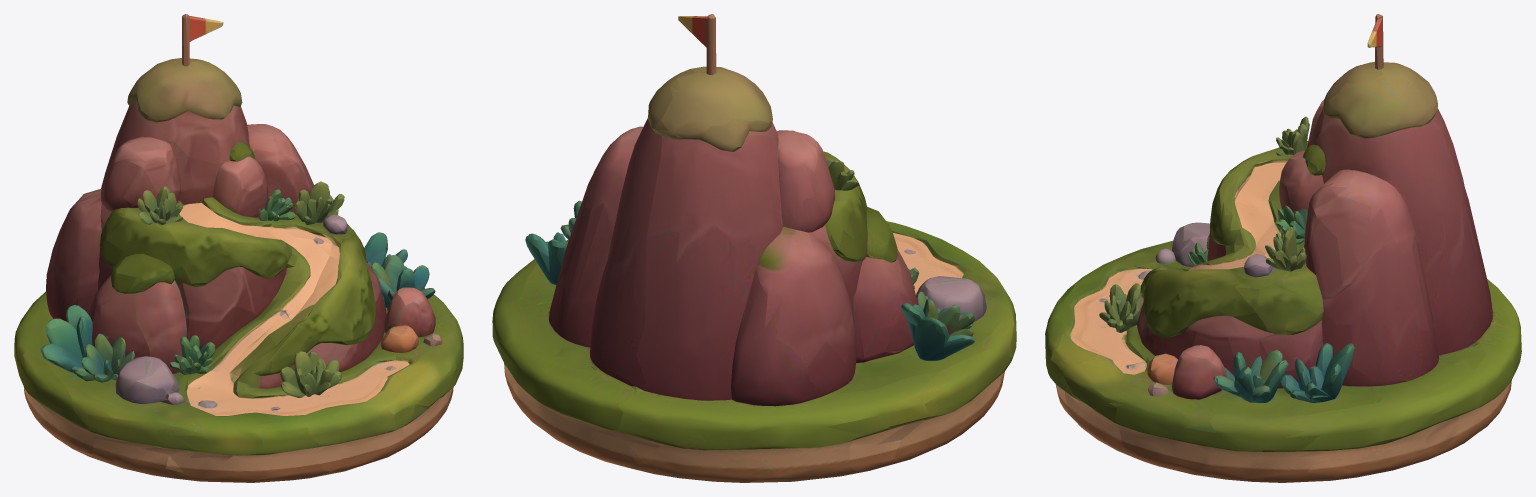
File: b_mountain.fbx
3 renders of one model, left to right at view 1: azimuth 30°, elevation 25°; view 2: azimuth 150°, elevation 25°; view 3: azimuth 270°, elevation 25°, orthographic. The views are drawn at different scales.
Visible parts, largest first — view 1: Mesh_0; view 2: Mesh_0; view 3: Mesh_0.
Boxes of the visible parts, x1,y1,x2,y2 form: Mesh_0: [14, 14, 463, 482]; Mesh_0: [492, 14, 1016, 482]; Mesh_0: [1045, 14, 1521, 482].
Bounding box in the file's own units: 1.9 × 1.63 × 1.9.
Materials: 1 (1 with a texture image).
